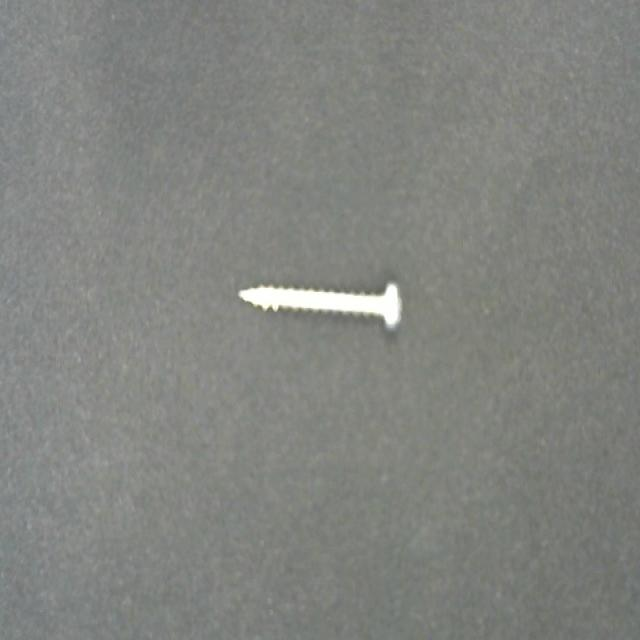SheetMetalScrew: (237, 278, 403, 330)
